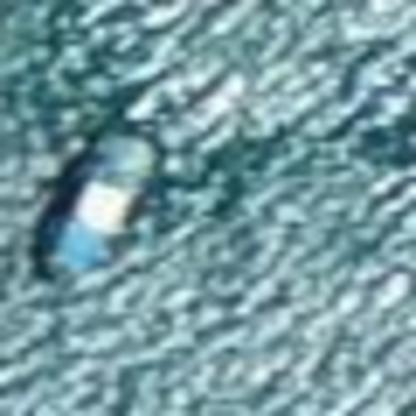ship: (25, 120, 168, 288)
